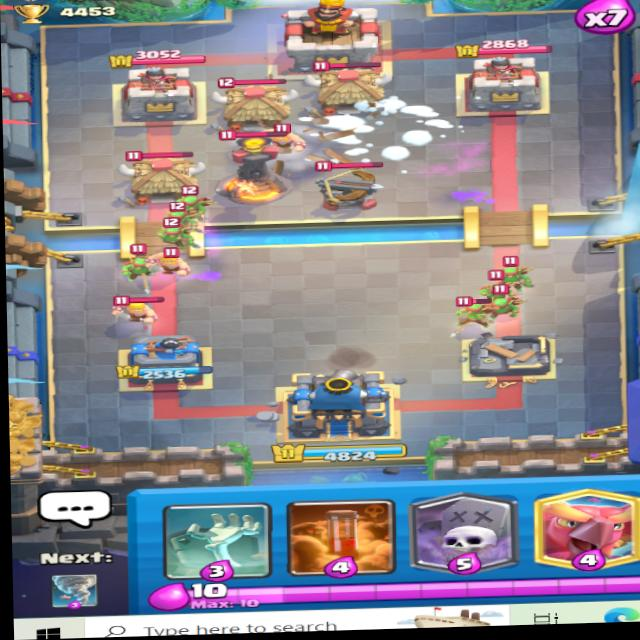barbarian: (106, 289, 172, 327), (144, 246, 207, 281), (249, 119, 309, 153)
goblin-hut: (116, 144, 209, 204), (208, 72, 298, 133), (304, 57, 393, 115)
inferno-tower: (202, 119, 300, 208)
spear-goblin: (482, 281, 523, 321), (452, 287, 493, 326), (157, 217, 200, 249), (165, 196, 206, 228), (123, 246, 160, 279), (175, 183, 207, 214), (501, 256, 528, 288)
x-bow: (301, 151, 390, 210)
